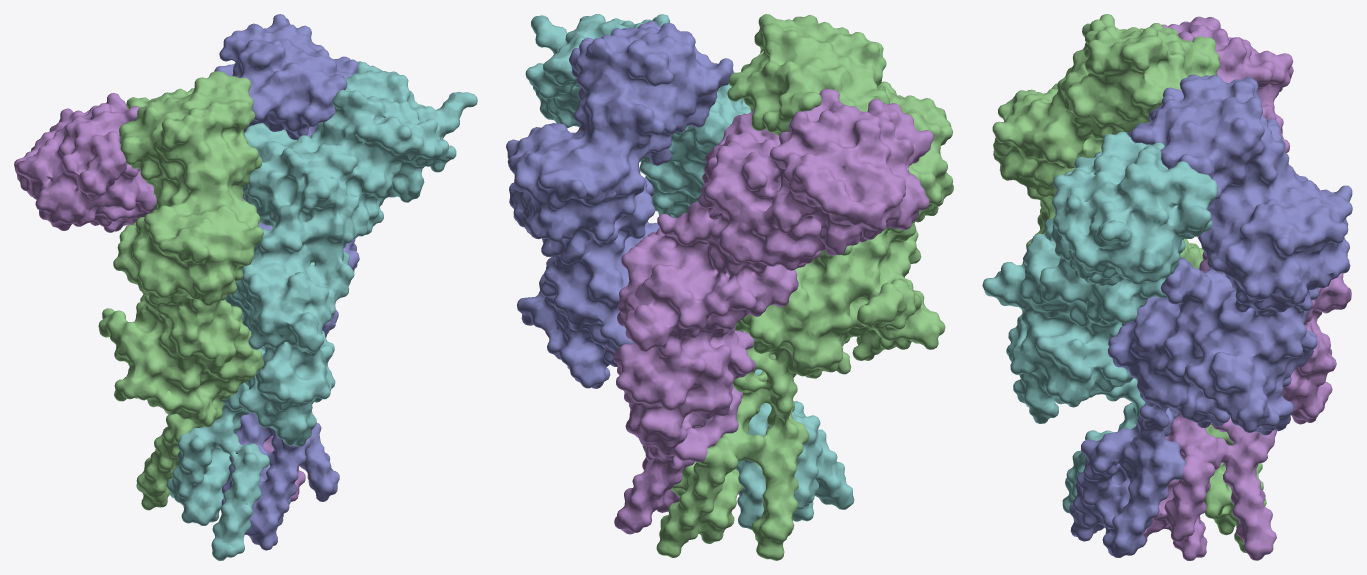
The model's file is nmda-4pe5.glb.
3 views of the same model, side by side, from view 1: azimuth 30°, elevation 25°; view 2: azimuth 150°, elevation 25°; view 3: azimuth 270°, elevation 25° (orthographic). The views are drawn at different scales.
Visible parts, largest first — view 1: nmda-4pe5_mesh; view 2: nmda-4pe5_mesh; view 3: nmda-4pe5_mesh.
Part boxes in pixels (left/top/right/bottom): nmda-4pe5_mesh: left=14, top=14, right=477, bottom=560; nmda-4pe5_mesh: left=506, top=14, right=953, bottom=560; nmda-4pe5_mesh: left=982, top=14, right=1352, bottom=560.
Bounding box in the file's own units: 1.42 × 1.55 × 1.06.
